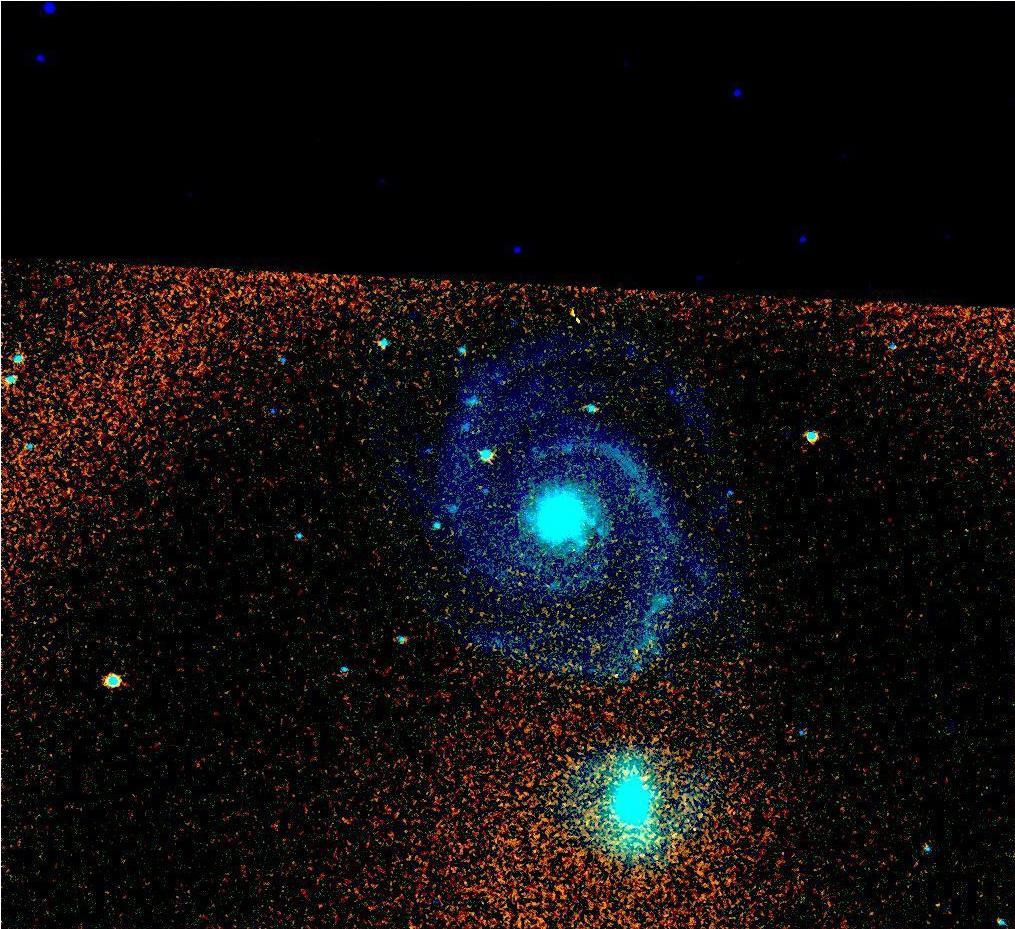star: (633, 772, 663, 802)
